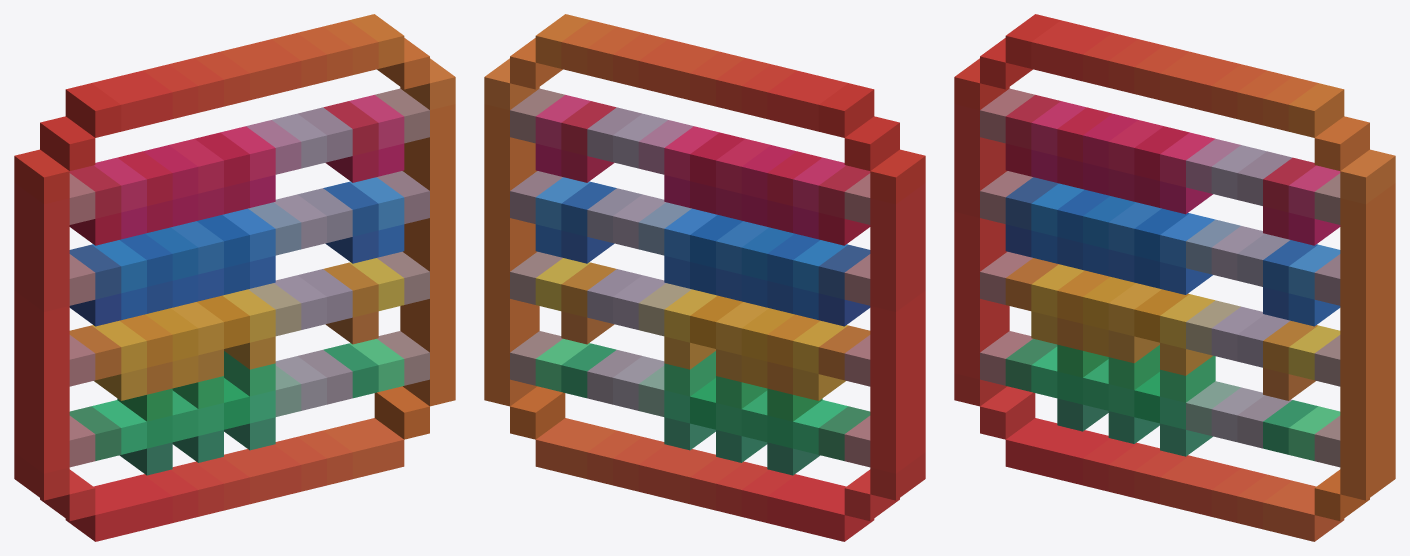
The model's file is abacus.glb.
3 views of the same model, side by side, from view 1: azimuth 30°, elevation 25°; view 2: azimuth 150°, elevation 25°; view 3: azimuth 330°, elevation 25° (orthographic).
Visible parts, largest first — view 1: prop; view 2: prop; view 3: prop.
Part boxes in pixels (x1,y1,x2,y2): prop: [14, 14, 455, 541]; prop: [484, 14, 925, 541]; prop: [954, 14, 1395, 541].
Size of the model in its own units: 16 by 16 by 2.
